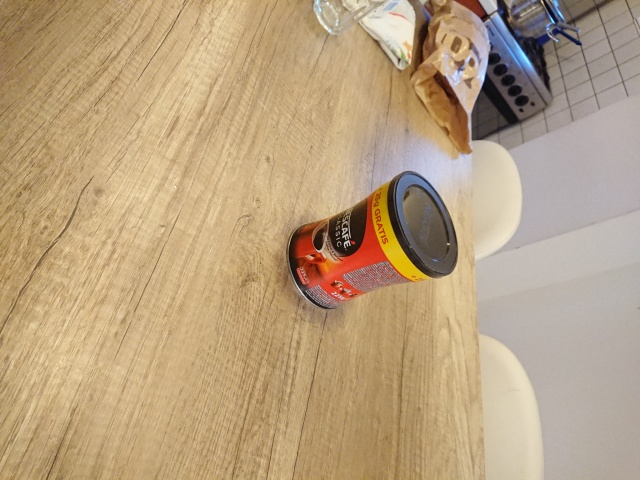Nescafe Classic 225g: (283, 168, 461, 312)
